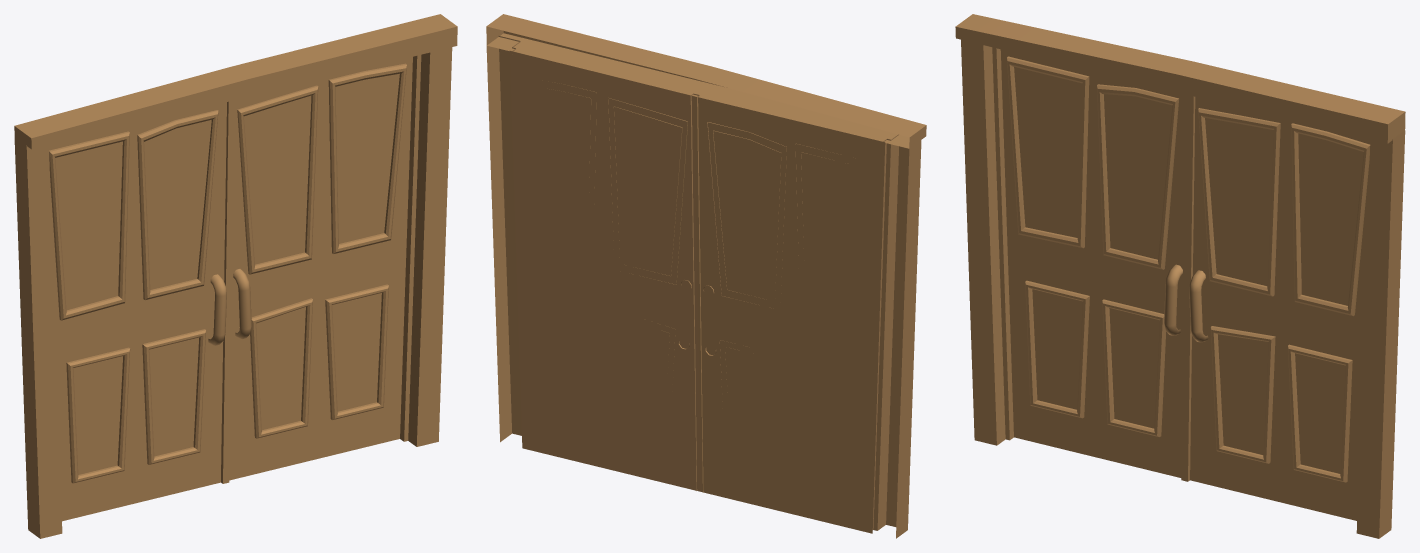
The model's file is DOOR_DOUBLE_WOOD_A.fbx.
3 renders of one model, left to right at view 1: azimuth 30°, elevation 25°; view 2: azimuth 150°, elevation 25°; view 3: azimuth 330°, elevation 25°, orthographic. The views are drawn at different scales.
Parts seen in each view (by area): view 1: DOOR_DOUBLE_WOOD_A; view 2: DOOR_DOUBLE_WOOD_A; view 3: DOOR_DOUBLE_WOOD_A.
Boxes of the visible parts, <box> form: DOOR_DOUBLE_WOOD_A: <box>14,14,457,538</box>; DOOR_DOUBLE_WOOD_A: <box>486,14,926,538</box>; DOOR_DOUBLE_WOOD_A: <box>955,14,1405,538</box>.
Size of the model in its own units: 225 by 209 by 16.58.
